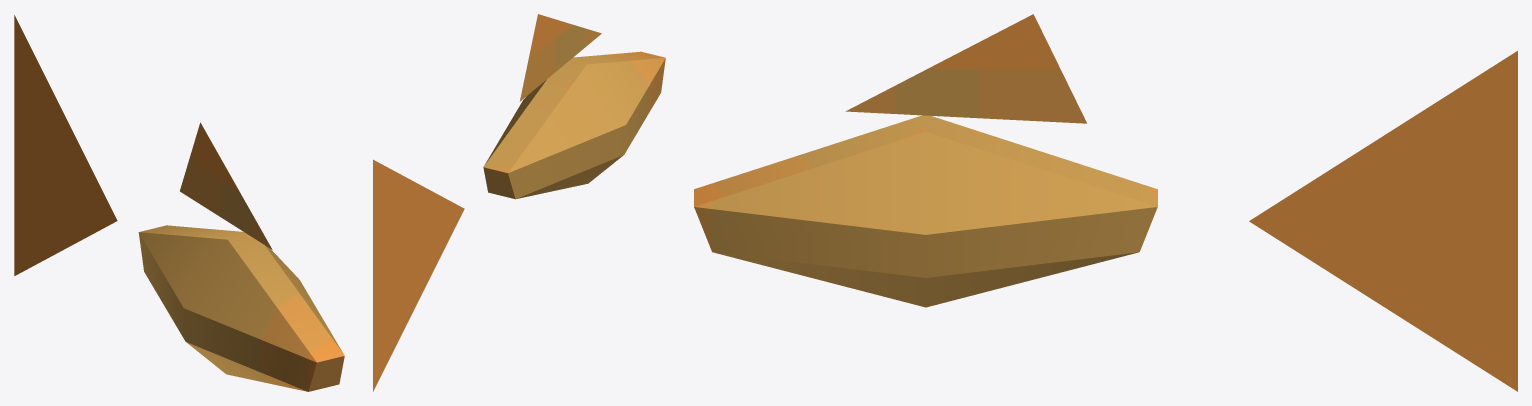
Rendered from fish_0.glb.
The picture shows the model from 3 angles, left to right: view 1: azimuth 30°, elevation 25°; view 2: azimuth 150°, elevation 25°; view 3: azimuth 270°, elevation 25°; orthographic projection. The views are drawn at different scales.
Visible parts, largest first — view 1: fish_1; view 2: fish_1; view 3: fish_1.
Boxes of the visible parts, box(x1,y1,x2,y2) form: fish_1: box(14, 15, 344, 391); fish_1: box(373, 14, 665, 391); fish_1: box(694, 14, 1517, 391).
Bounding box in the file's own units: 0.0648 × 0.155 × 0.3062.
Materials: 1 (1 with a texture image).
